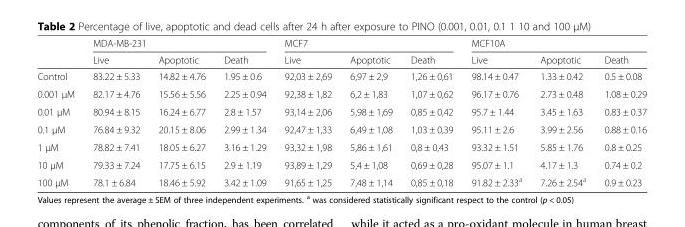table: (36, 37, 646, 187)
table column: (461, 37, 530, 187), (148, 37, 214, 187), (274, 37, 340, 187), (83, 37, 148, 187), (530, 37, 594, 187), (400, 37, 461, 187), (214, 37, 274, 187), (340, 37, 400, 187), (594, 37, 646, 187), (36, 37, 83, 187)
table column header: (36, 37, 646, 67)
table row: (36, 84, 646, 102), (36, 119, 646, 137), (36, 137, 646, 155), (36, 67, 646, 84), (36, 102, 646, 119), (36, 155, 646, 172), (36, 51, 646, 67), (36, 172, 646, 187), (36, 37, 646, 51)
table spanning cell: (83, 37, 274, 51), (274, 37, 461, 51), (461, 37, 646, 51)
